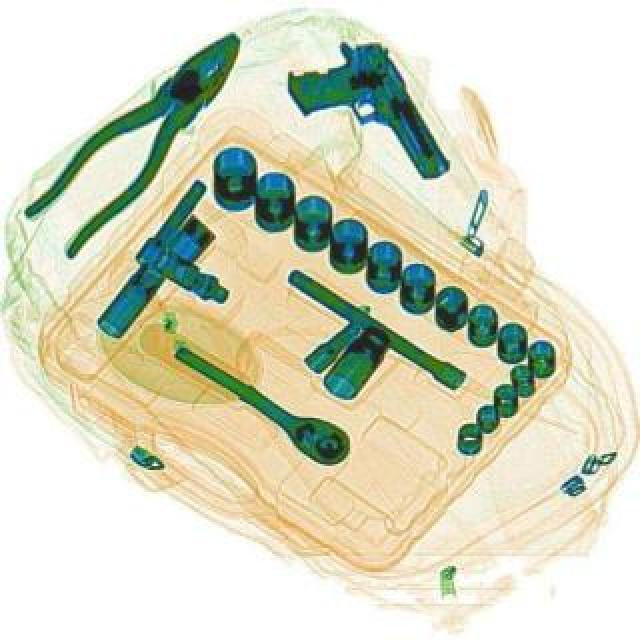gun: (274, 24, 452, 212)
wrench: (14, 18, 272, 258)
